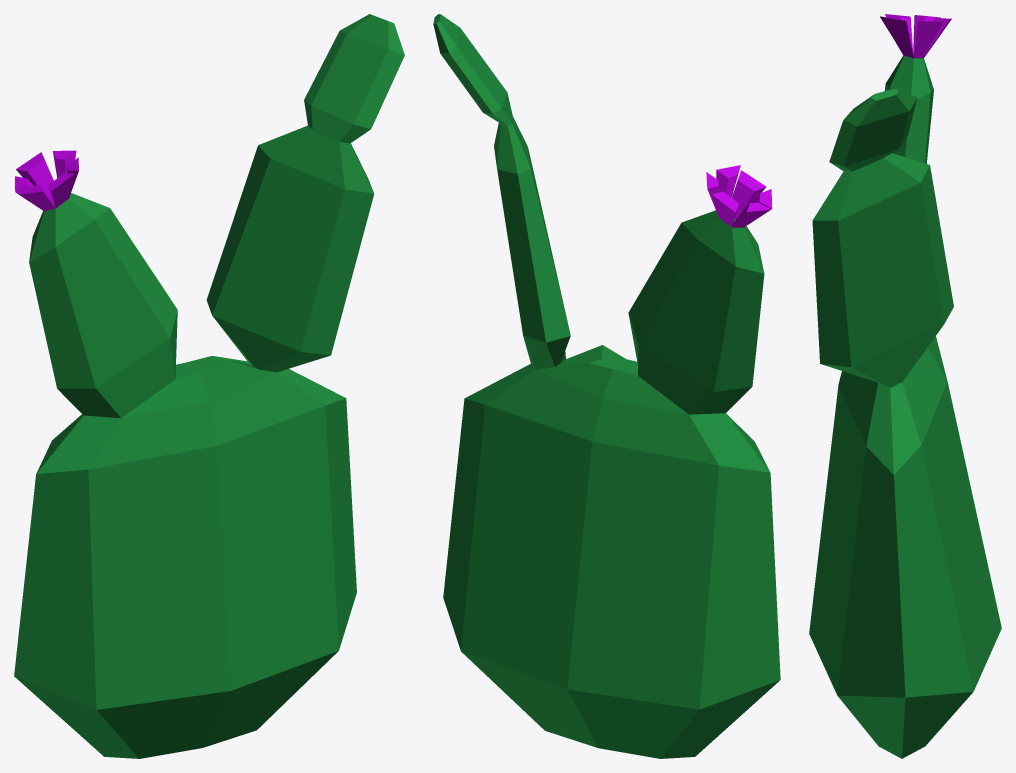
Rendered from Cactus3.fbx.
3 views of the same model, side by side, from view 1: azimuth 30°, elevation 25°; view 2: azimuth 150°, elevation 25°; view 3: azimuth 270°, elevation 25° (orthographic). The views are drawn at different scales.
Visible parts, largest first — view 1: Cylinder.003; view 2: Cylinder.003; view 3: Cylinder.003.
Boxes of the visible parts, box(x1,y1,x2,y2) form: Cylinder.003: box(14, 14, 404, 758); Cylinder.003: box(433, 14, 780, 758); Cylinder.003: box(809, 14, 1001, 758).
Size of the model in its own units: 128 by 227 by 55.12.
